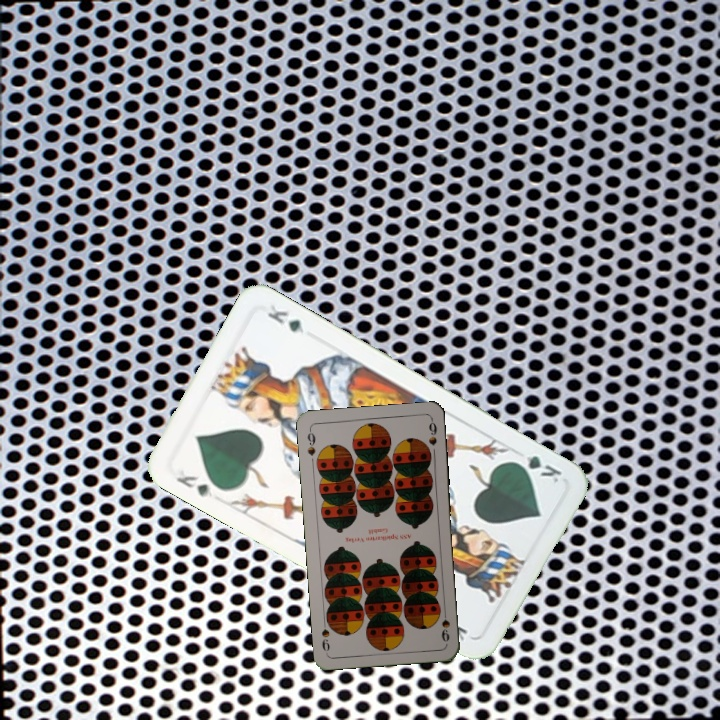GK: (508, 451, 565, 486), (171, 471, 217, 500)
S9: (437, 604, 452, 644), (303, 425, 318, 458)
